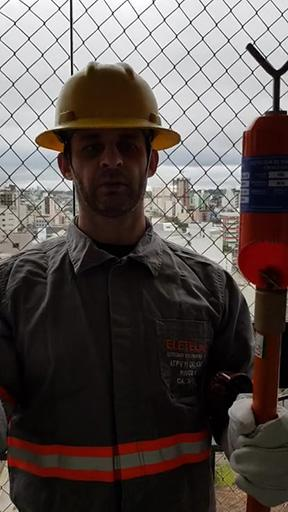Detector_Tensao_Contato: (239, 40, 288, 289)
